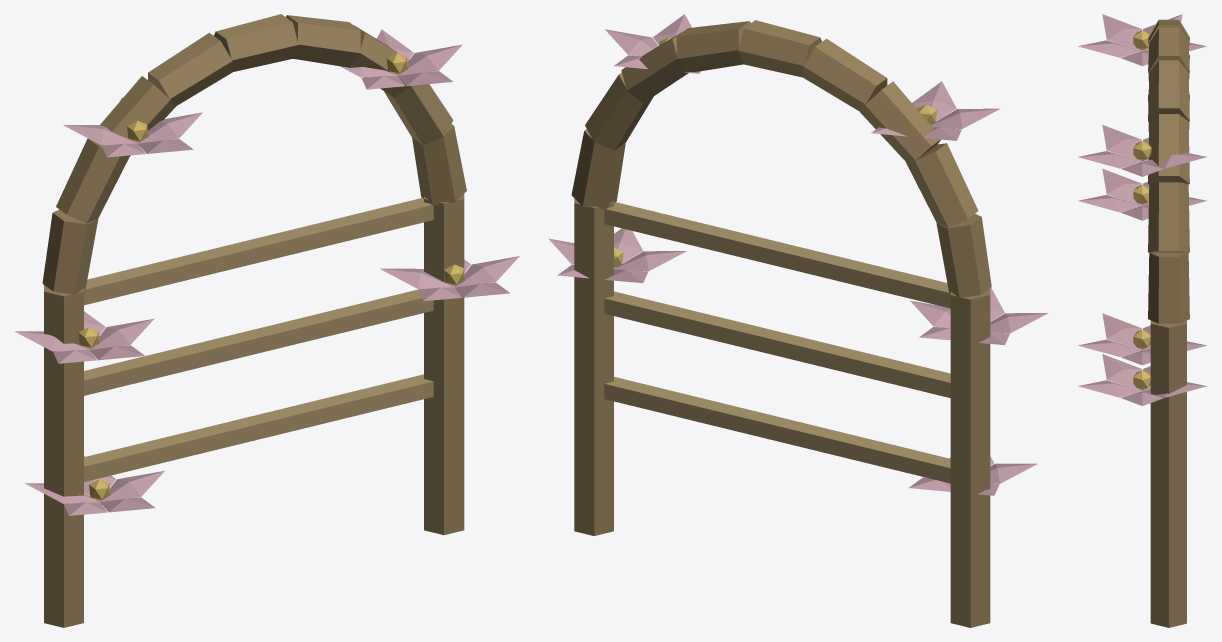
The model's file is map-exclusive-v3__village_07.glb.
3 views of the same model, side by side, from view 1: azimuth 30°, elevation 25°; view 2: azimuth 150°, elevation 25°; view 3: azimuth 270°, elevation 25° (orthographic). The views are drawn at different scales.
Parts seen in each view (by area): view 1: village_07; view 2: village_07; view 3: village_07.
Boxes of the visible parts, x1,y1,x2,y2 form: village_07: (14,14,519,627); village_07: (548,14,1048,627); village_07: (1078,14,1206,627).
Bounding box in the file's own units: 2.29 × 2.47 × 0.5896.
